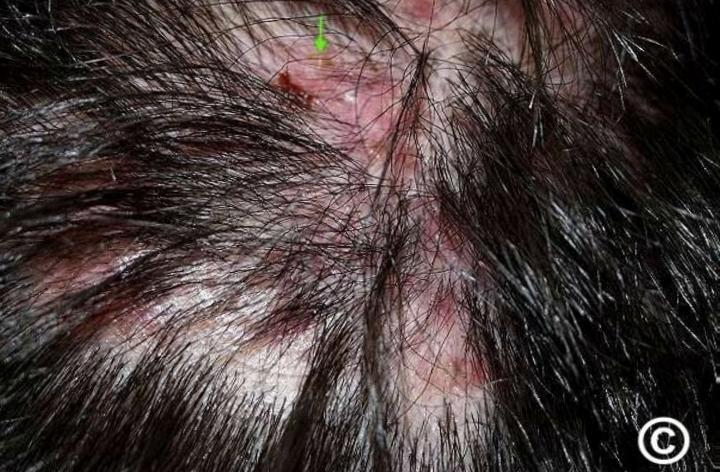Folliculitis: (249, 25, 493, 385)
